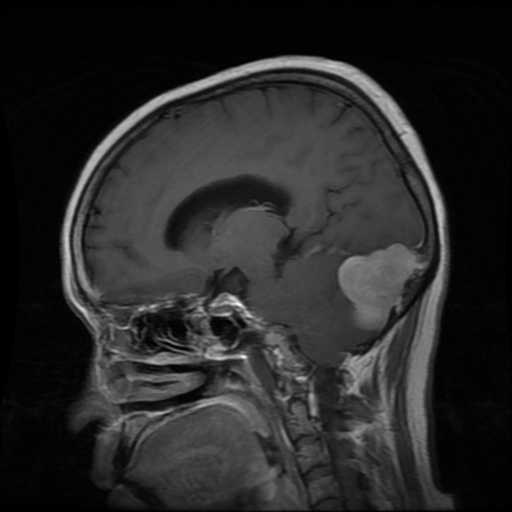meningioma: (337, 241, 425, 331)
